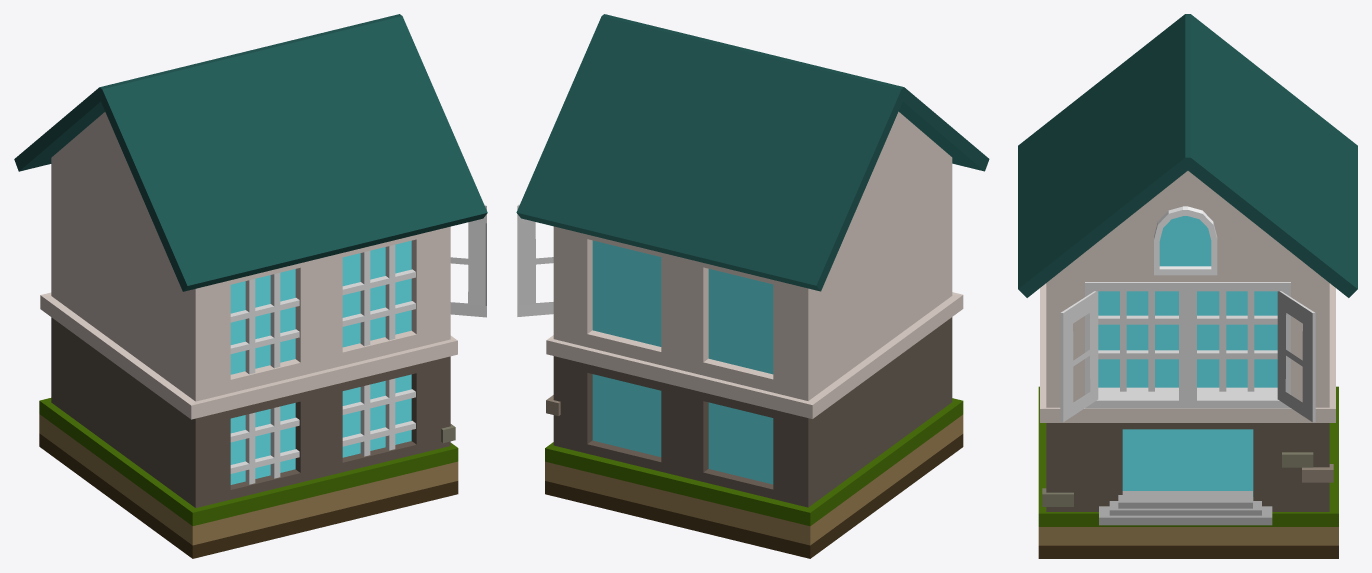
The model's file is house.fbx.
The picture shows the model from 3 angles, left to right: view 1: azimuth 30°, elevation 25°; view 2: azimuth 150°, elevation 25°; view 3: azimuth 270°, elevation 25°; orthographic projection. The views are drawn at different scales.
Visible parts, largest first — view 1: Plane.010, Plane.011, house ground, Cube.005, Cube.006, Cube.008, Cube.009; view 2: Plane.010, Plane.011, house ground; view 3: Plane.010, Plane.011, house ground, Cube.013, Cube.003, Cube.004, Cube.007, Cube.011, Cube.010, Cube.012.
Part boxes in pixels (x1,y1,x2,y2): Plane.010: [40, 112, 486, 507]; Plane.011: [14, 14, 487, 291]; house ground: [39, 398, 458, 558]; Cube.005: [342, 244, 415, 346]; Cube.006: [230, 273, 299, 374]; Cube.008: [342, 378, 415, 456]; Cube.009: [230, 406, 299, 484]; Plane.010: [517, 111, 963, 507]; Plane.011: [516, 14, 989, 291]; house ground: [545, 398, 963, 558]; Plane.010: [1040, 171, 1335, 511]; Plane.011: [1018, 14, 1357, 297]; house ground: [1038, 386, 1338, 558]; Cube.013: [1099, 491, 1272, 525]; Cube.003: [1154, 206, 1217, 275]; Cube.004: [1197, 291, 1277, 391]; Cube.007: [1098, 291, 1178, 391]; Cube.011: [1302, 464, 1333, 482]; Cube.010: [1282, 452, 1313, 467]; Cube.012: [1042, 488, 1073, 506].
Size of the model in its own units: 252 by 314 by 236.
